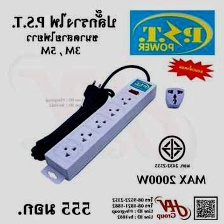three_eye_plug: (42, 74, 159, 186), (163, 84, 189, 110)
